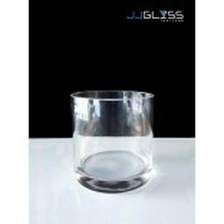glass: (65, 85, 160, 197)
